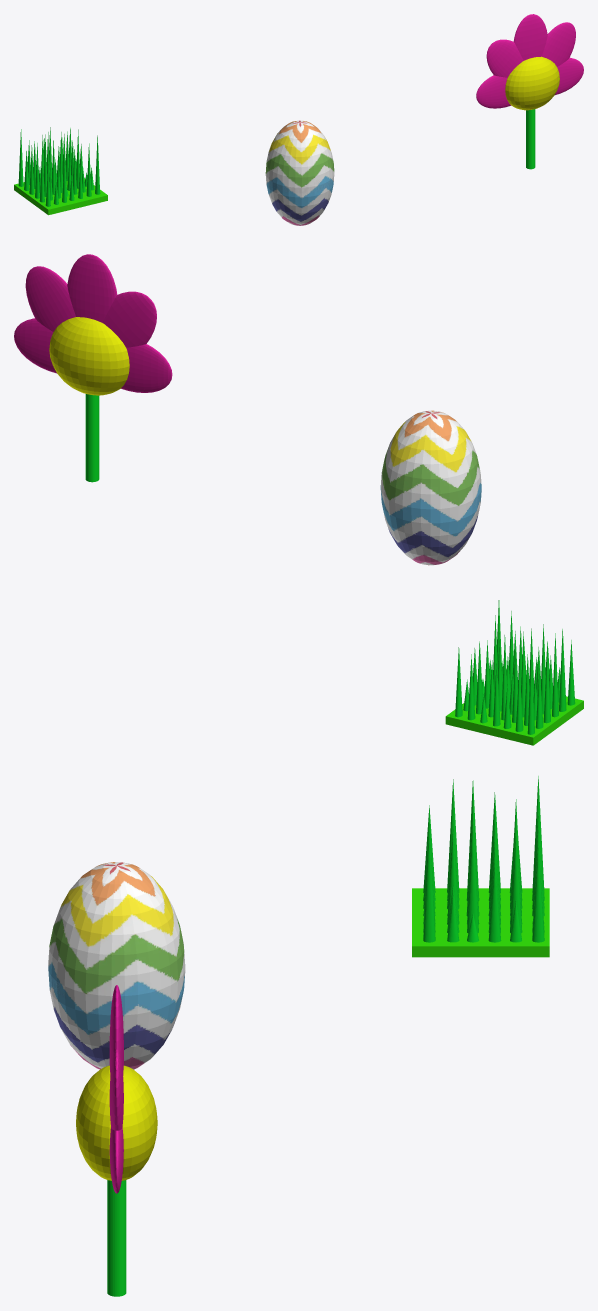
The picture shows the model from 3 angles, top to bottom: view 1: azimuth 30°, elevation 25°; view 2: azimuth 150°, elevation 25°; view 3: azimuth 270°, elevation 25°; orthographic projection. The views are drawn at different scales.
Parts seen in each view (by area): view 1: Sphere.003, Sphere, Cone.035; view 2: Sphere.003, Sphere, Cone.035; view 3: Sphere, Cone.035, Sphere.003.
Boxes of the visible parts, bbox=[...] form: Sphere.003: bbox=[476, 14, 583, 169]; Sphere: bbox=[265, 120, 334, 225]; Cone.035: bbox=[14, 127, 107, 215]; Sphere.003: bbox=[14, 254, 172, 482]; Sphere: bbox=[380, 410, 481, 565]; Cone.035: bbox=[445, 600, 583, 745]; Sphere: bbox=[48, 862, 185, 1069]; Cone.035: bbox=[412, 776, 549, 957]; Sphere.003: bbox=[76, 985, 157, 1296].
Bounding box in the file's own units: 15.49 × 4.98 × 7.29.
Materials: 51 (1 with a texture image).
